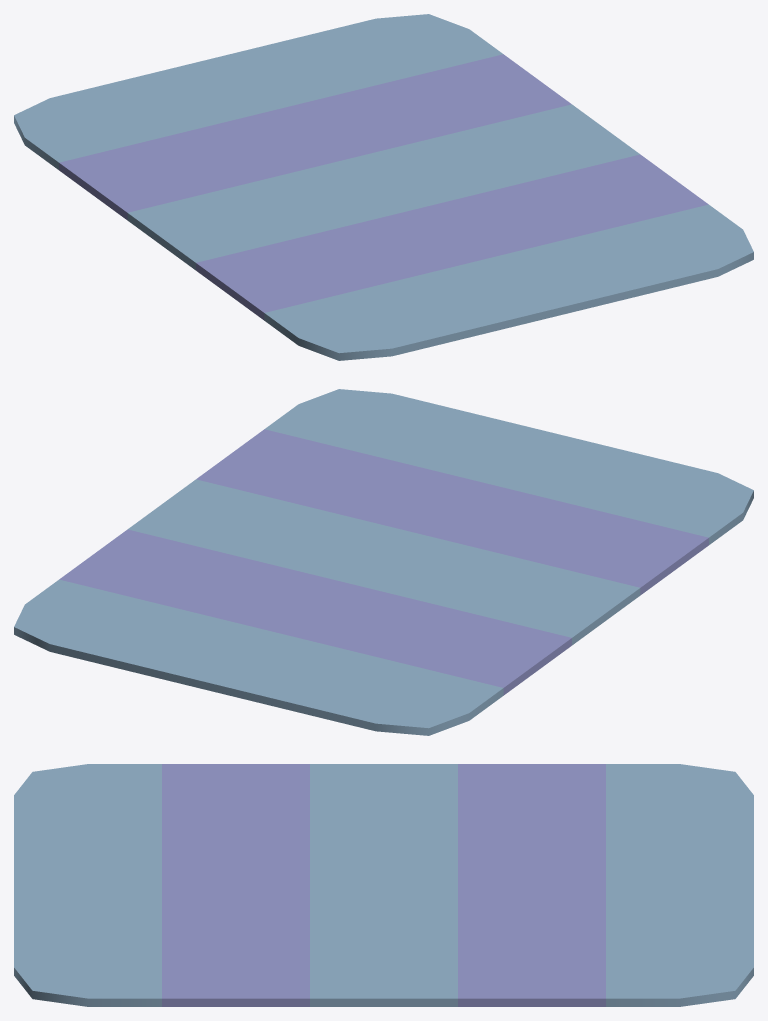
The model's file is carpet-rectangle-stripes.glb.
The picture shows the model from 3 angles, top to bottom: view 1: azimuth 30°, elevation 25°; view 2: azimuth 150°, elevation 25°; view 3: azimuth 270°, elevation 25°; orthographic projection. The views are drawn at different scales.
Visible parts, largest first — view 1: carpet-rectangle-stripes; view 2: carpet-rectangle-stripes; view 3: carpet-rectangle-stripes.
Part boxes in pixels (x1,y1,x2,y2): carpet-rectangle-stripes: (14, 14, 753, 360); carpet-rectangle-stripes: (14, 389, 753, 735); carpet-rectangle-stripes: (14, 764, 753, 1006).
Size of the model in its own units: 1.5 by 0.025 by 2.
